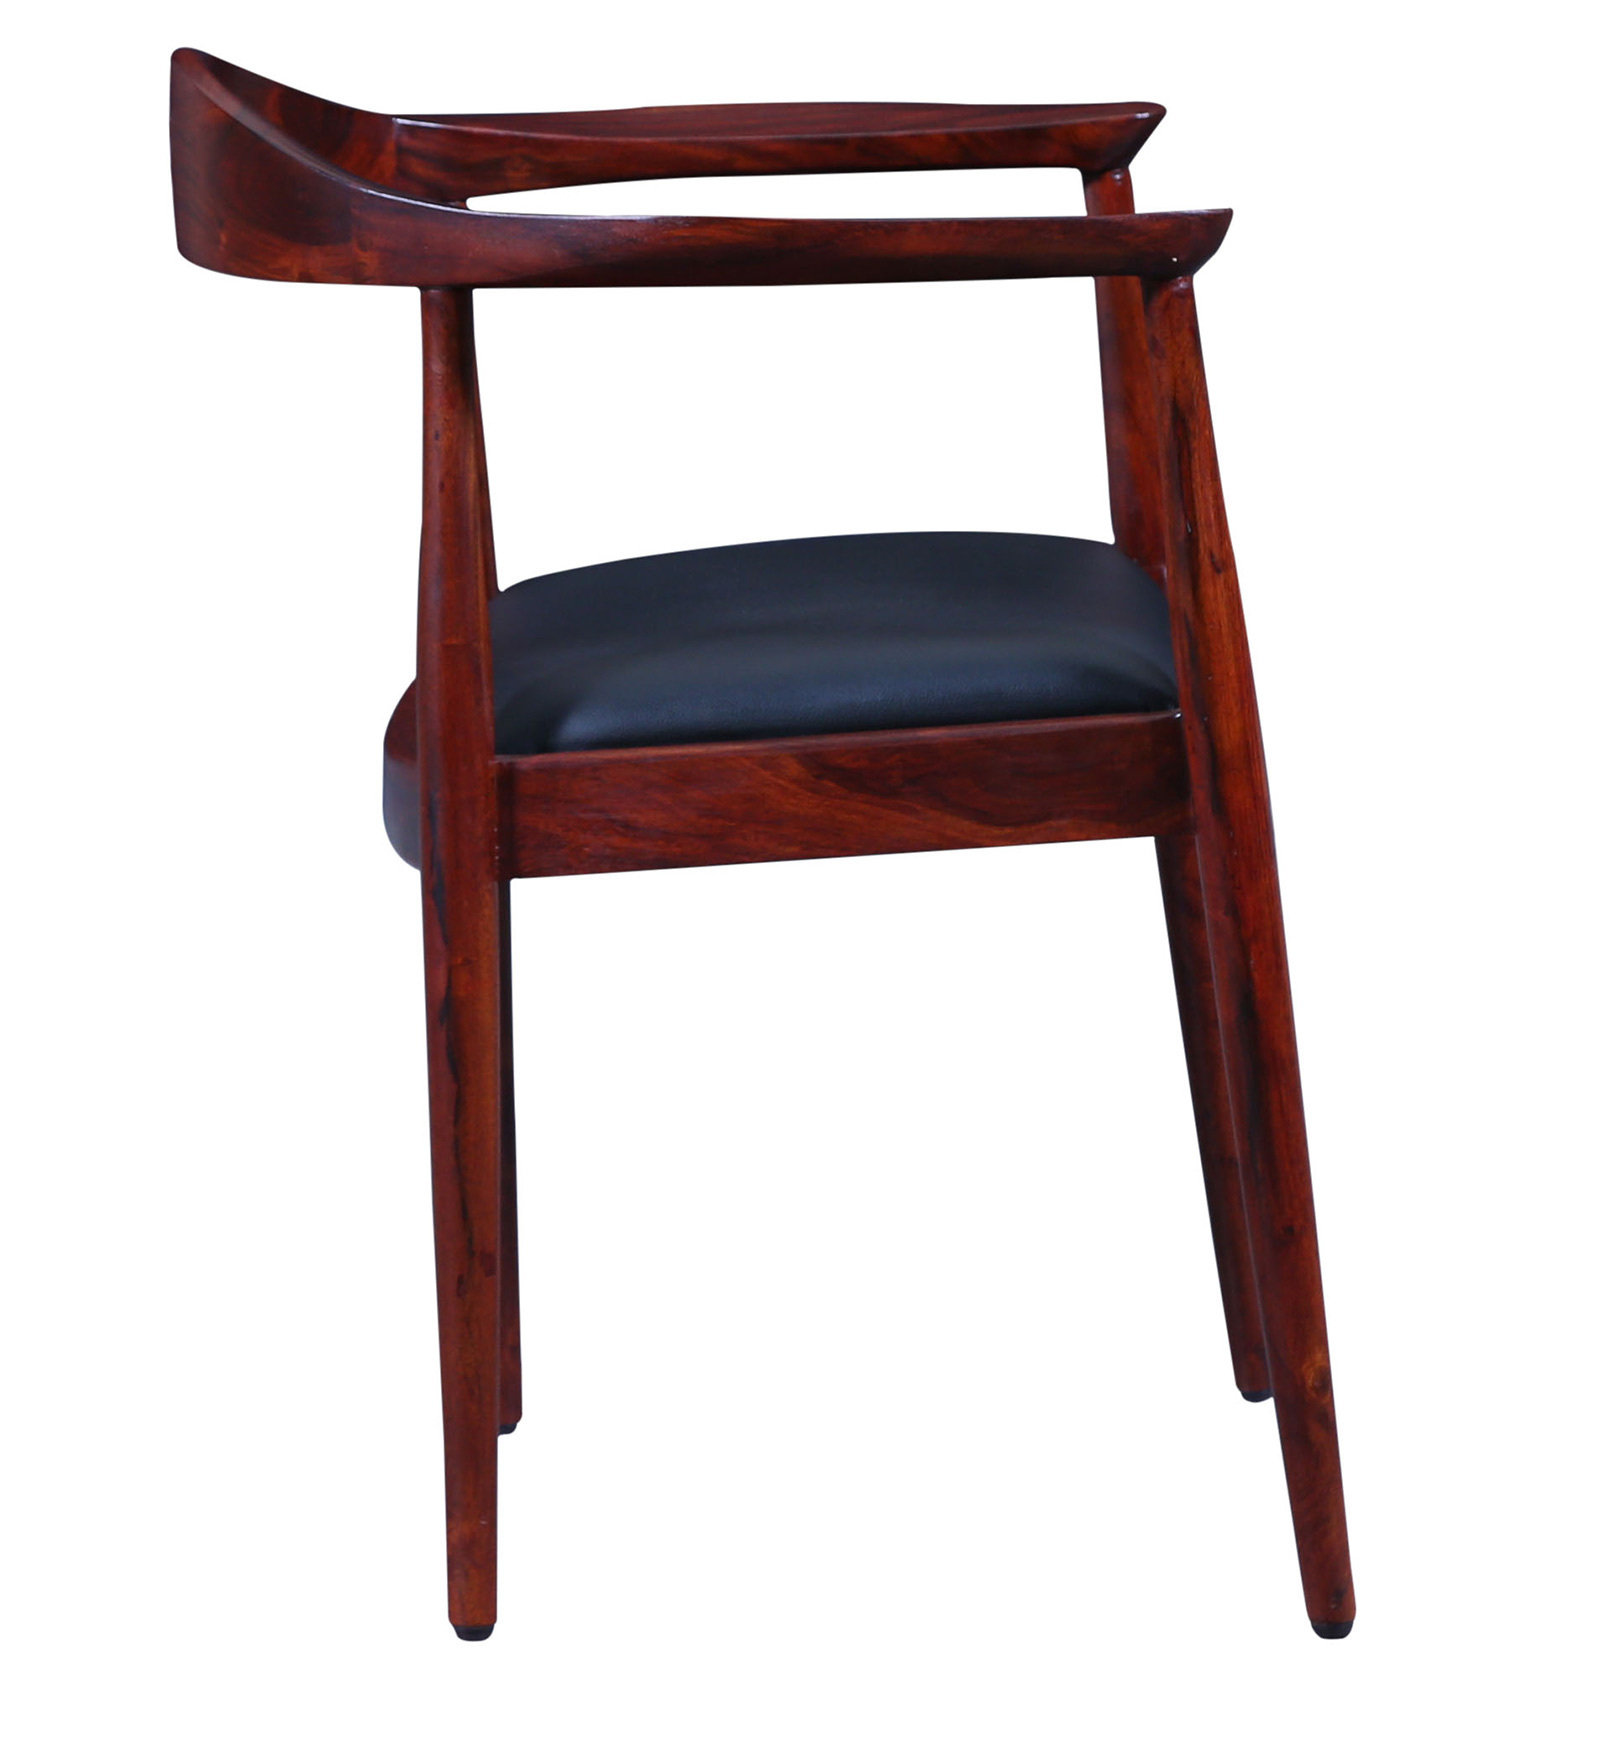Esvelt Arm Chair in Honey Oak Finish by Woodsworth: (83, 28, 1450, 1706)
